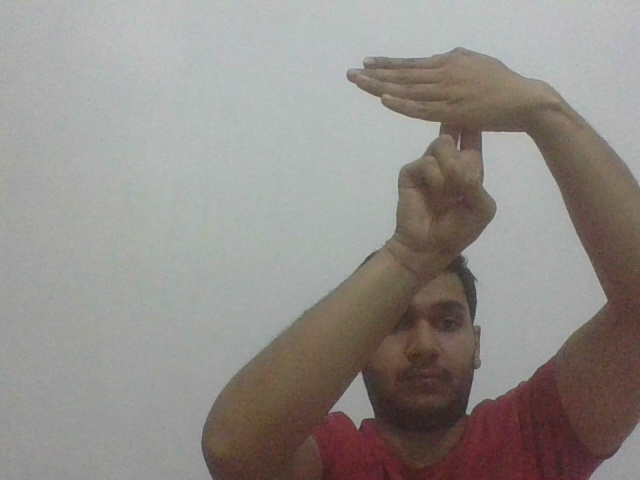N: (341, 45, 527, 155)
